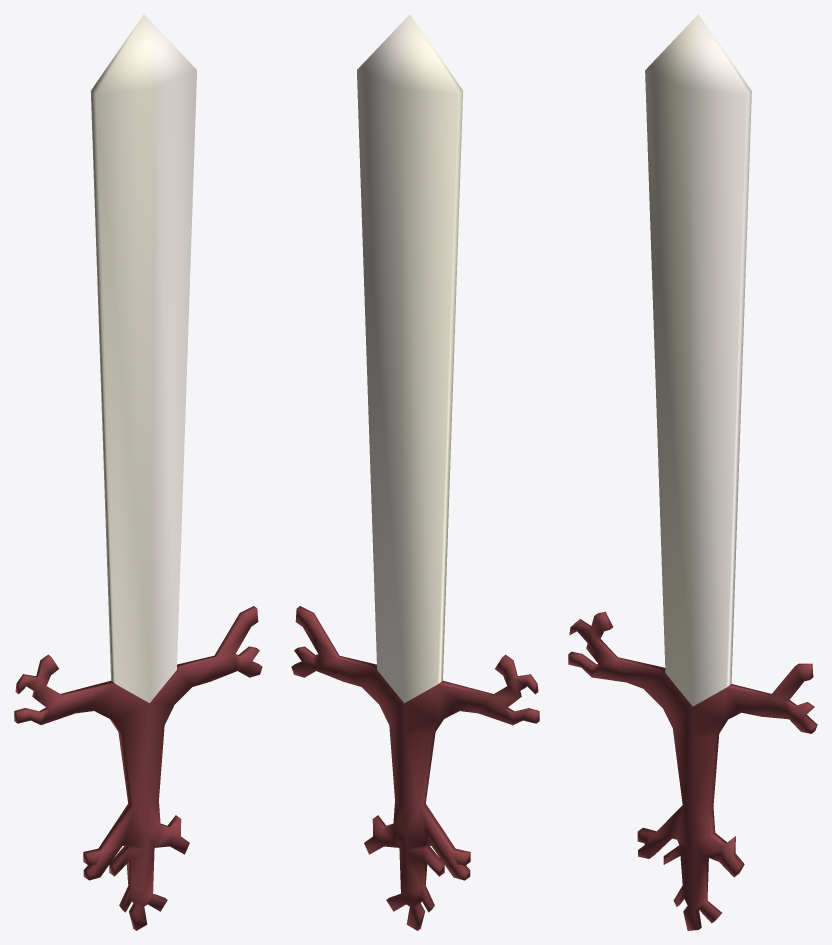
Rendered from tree sword.glb.
The picture shows the model from 3 angles, left to right: view 1: azimuth 30°, elevation 25°; view 2: azimuth 150°, elevation 25°; view 3: azimuth 330°, elevation 25°; orthographic projection.
Visible parts, largest first — view 1: Sword; view 2: Sword; view 3: Sword.
Part boxes in pixels (box(x1,y1,x2,y2)): Sword: box(14, 14, 262, 930); Sword: box(291, 14, 539, 930); Sword: box(568, 14, 817, 930).
Bounding box in the file's own units: 0.2755 × 0.9823 × 0.0453.
1 material, 1 textured.
